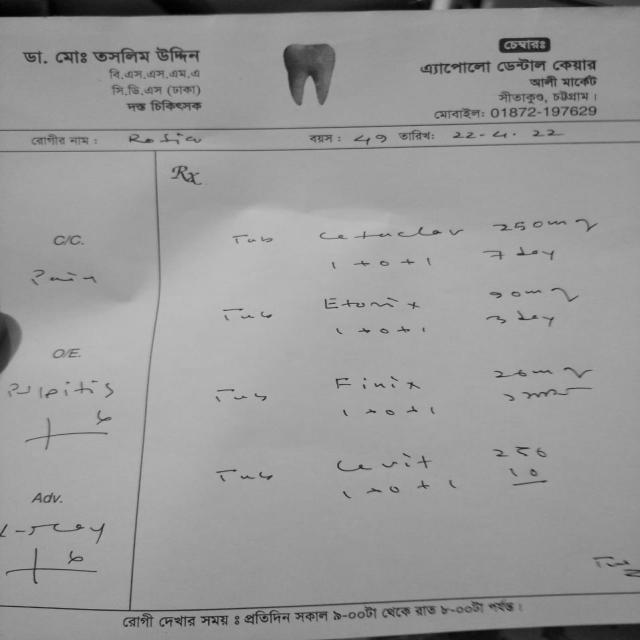medicine: (311, 221, 471, 247), (322, 449, 434, 476), (328, 370, 426, 397), (318, 293, 424, 317)
